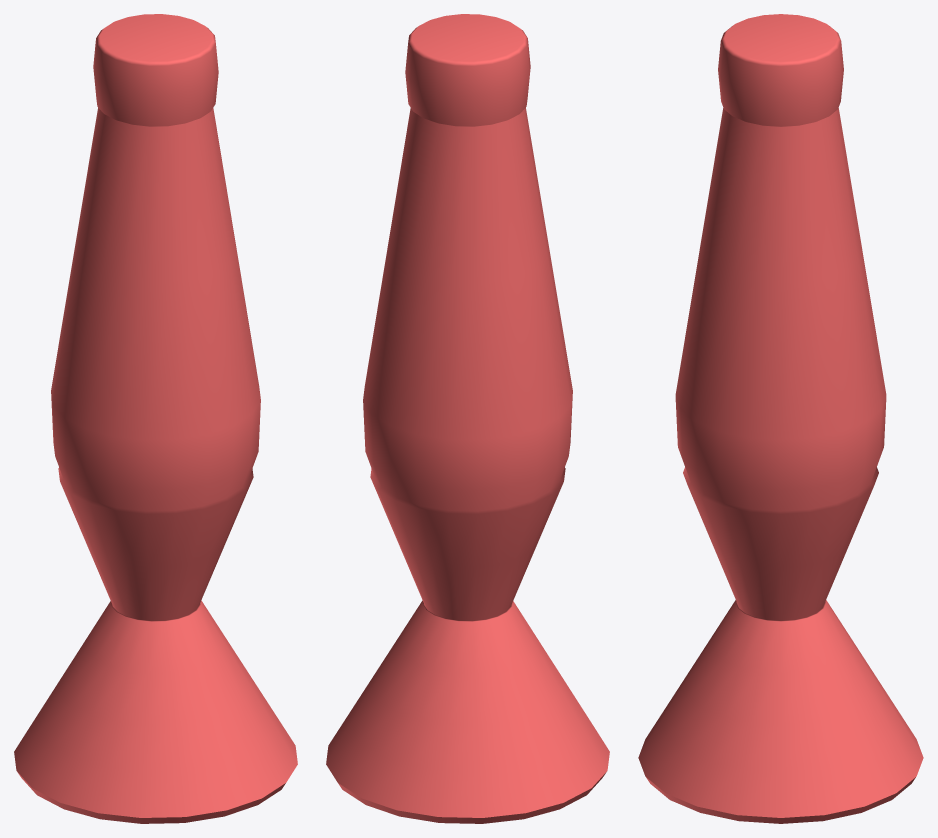
Rendered from Modelo_LamparaLava.fbx.
3 views of the same model, side by side, from view 1: azimuth 30°, elevation 25°; view 2: azimuth 150°, elevation 25°; view 3: azimuth 270°, elevation 25° (orthographic).
Visible parts, largest first — view 1: LamparaLava; view 2: LamparaLava; view 3: LamparaLava.
Part boxes in pixels (x1,y1,x2,y2): LamparaLava: (14,14,297,823); LamparaLava: (326,14,609,823); LamparaLava: (638,14,923,823).
Size of the model in its own units: 11.84 by 33.35 by 11.84.
